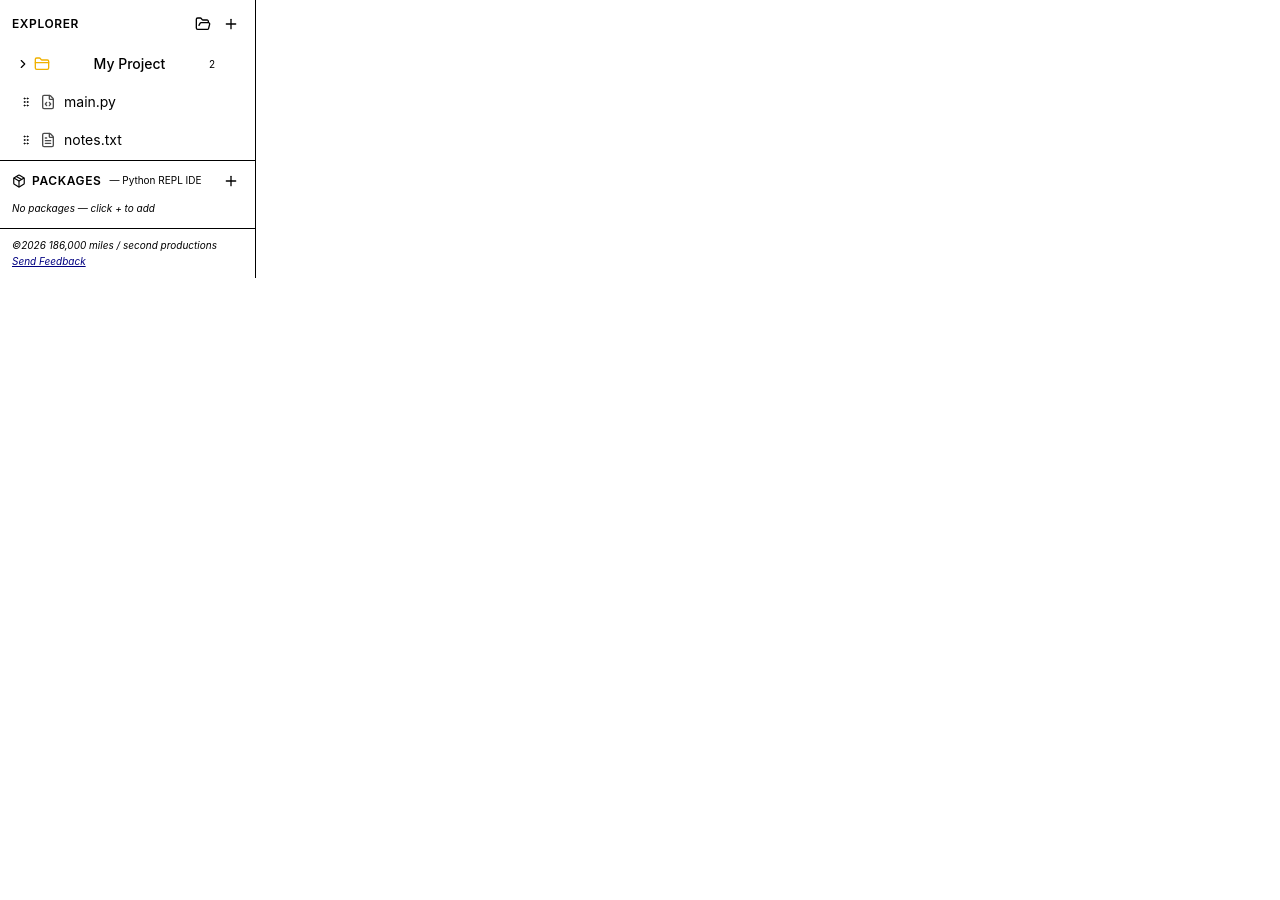
Test: ExplorerPane › Create button disabled when project name is empty
What coordinates should you click on to do the following:
click the button named "New Project"
I would click on:
 (203, 24)
Its box is [191,12,215,36].
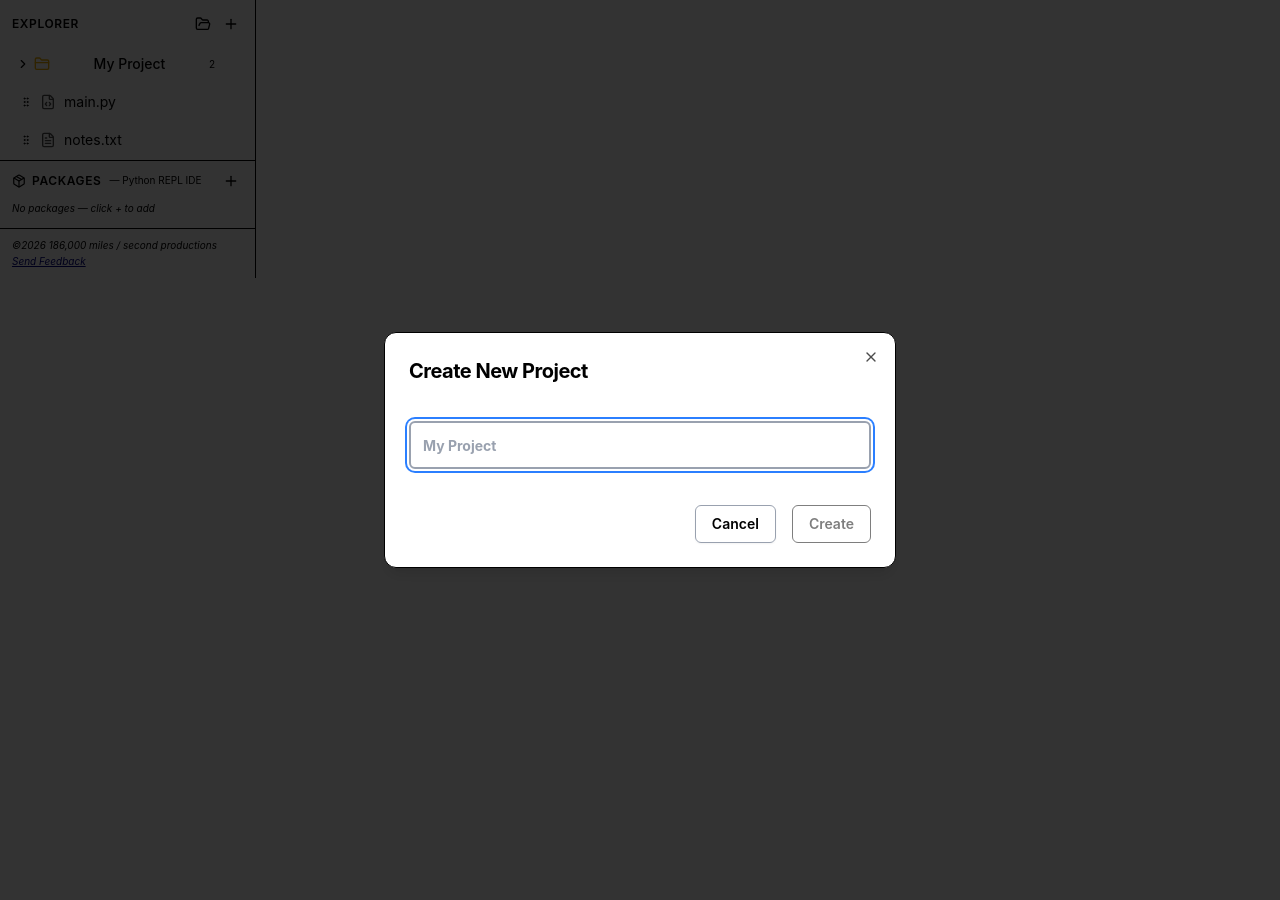
Expected: the heading "Create New Project" is shown, [409,359,588,383]
Expected: the button "Create" is disabled, [792,505,871,543]
